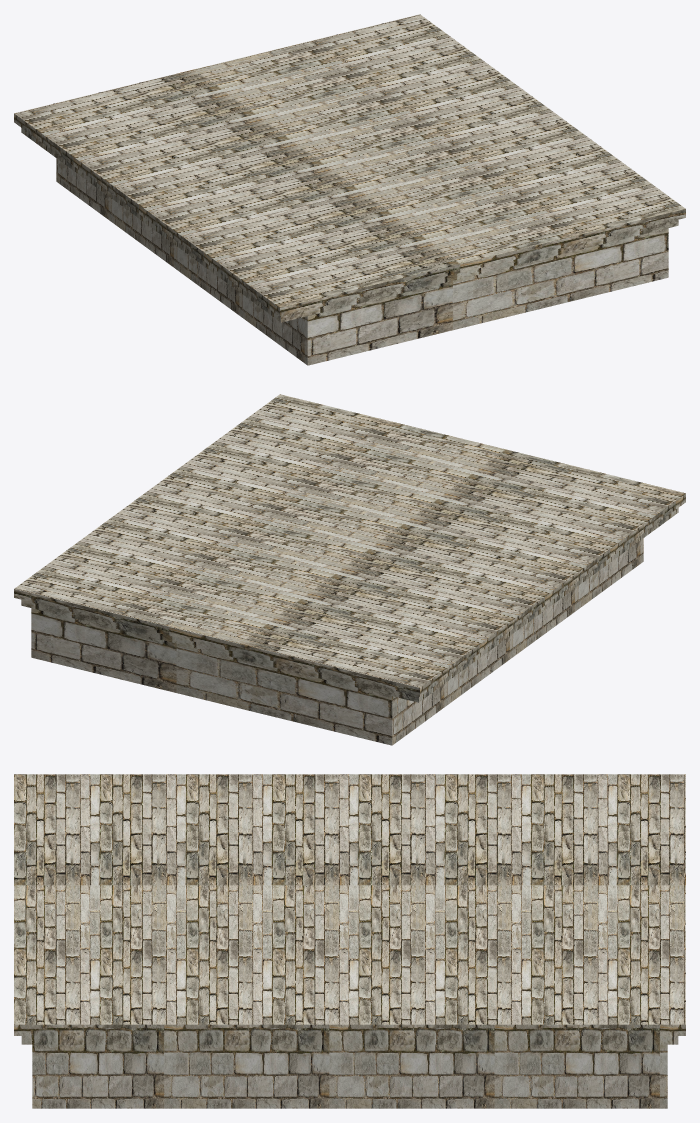
File: Level2Floor.FBX
The picture shows the model from 3 angles, top to bottom: view 1: azimuth 30°, elevation 25°; view 2: azimuth 150°, elevation 25°; view 3: azimuth 270°, elevation 25°; orthographic projection. The views are drawn at different scales.
Visible parts, largest first — view 1: Level 2 Floor; view 2: Level 2 Floor; view 3: Level 2 Floor.
Boxes of the visible parts, left/top/right/bottom form: Level 2 Floor: left=14, top=14, right=685, bottom=365; Level 2 Floor: left=14, top=394, right=685, bottom=745; Level 2 Floor: left=14, top=774, right=685, bottom=1108.
Size of the model in its own units: 288 by 48.59 by 327.
1 material, 1 textured.
